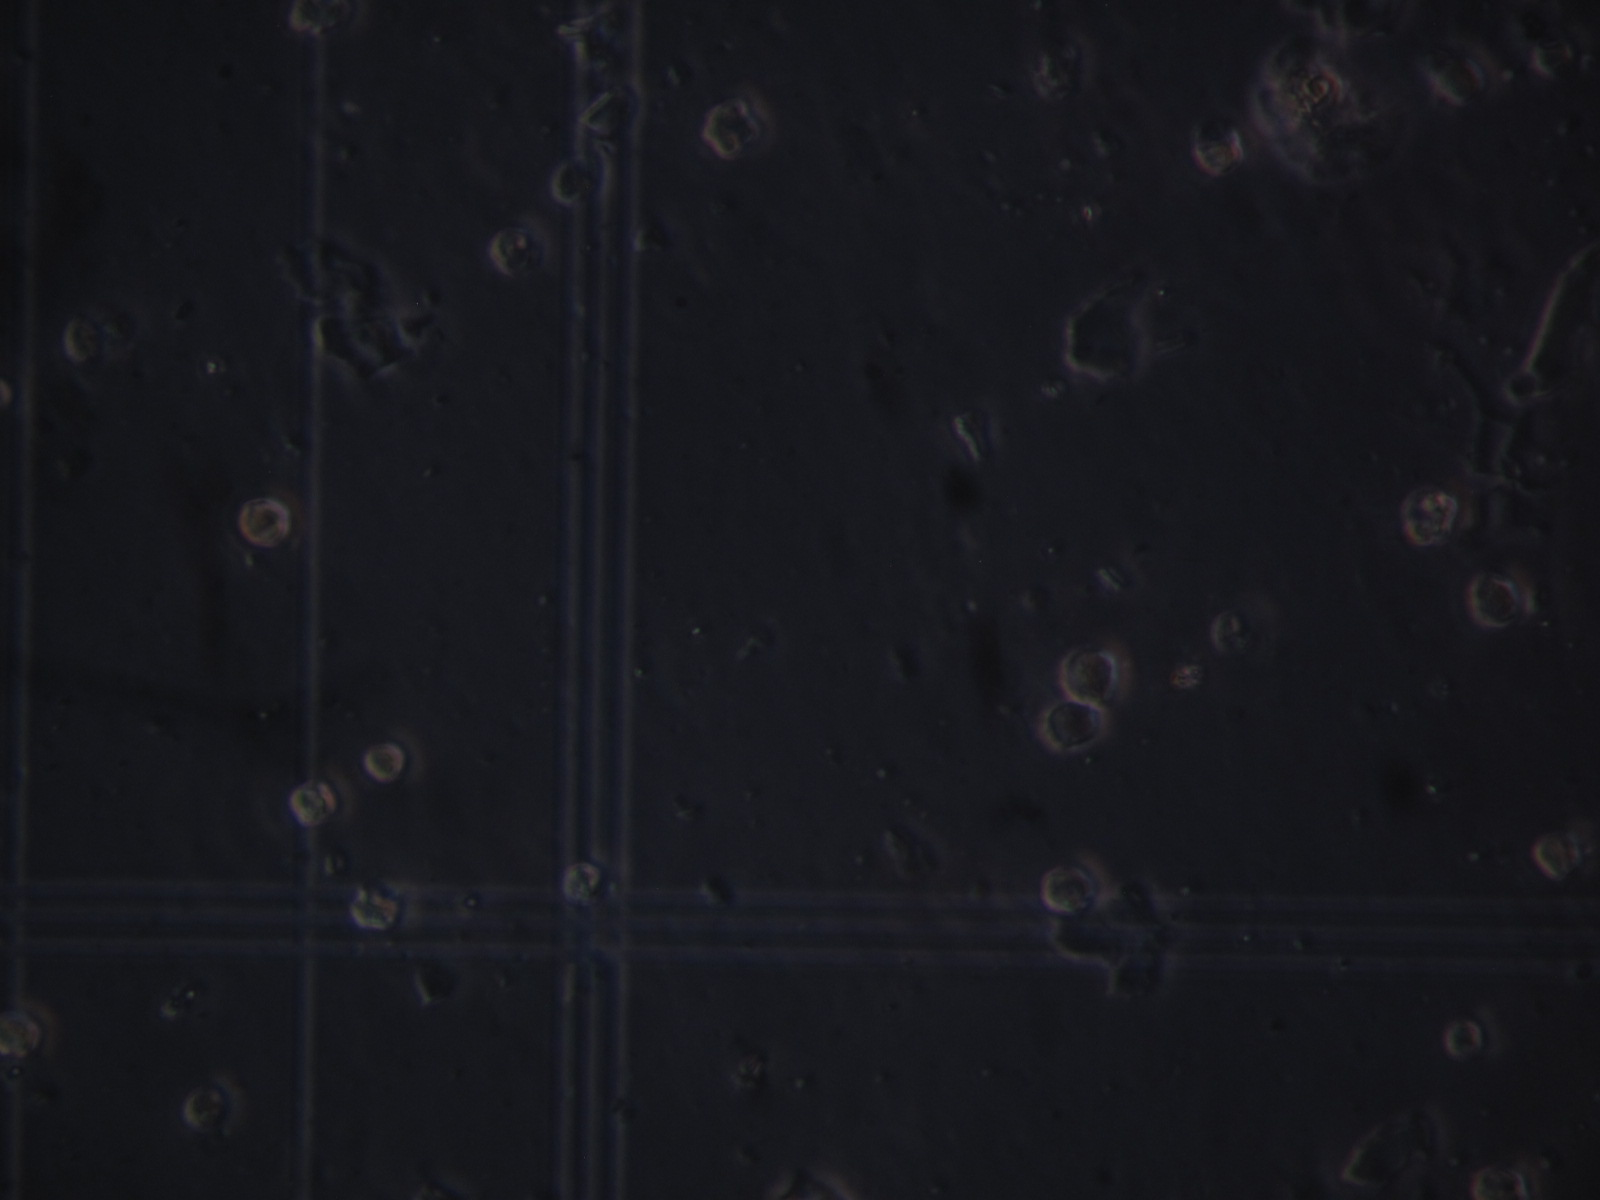hemo: (1060, 640, 1134, 712), (706, 91, 774, 159), (287, 766, 355, 831), (350, 874, 420, 937), (1, 995, 57, 1073), (1041, 852, 1109, 914), (1041, 698, 1111, 756), (1403, 487, 1469, 548), (362, 724, 425, 785), (491, 217, 551, 279), (185, 1074, 243, 1134), (1445, 1008, 1500, 1063), (1468, 574, 1521, 626), (1191, 124, 1243, 176), (239, 495, 292, 547), (1469, 1165, 1529, 1200), (1537, 832, 1581, 880), (553, 155, 593, 207), (559, 858, 603, 903)
